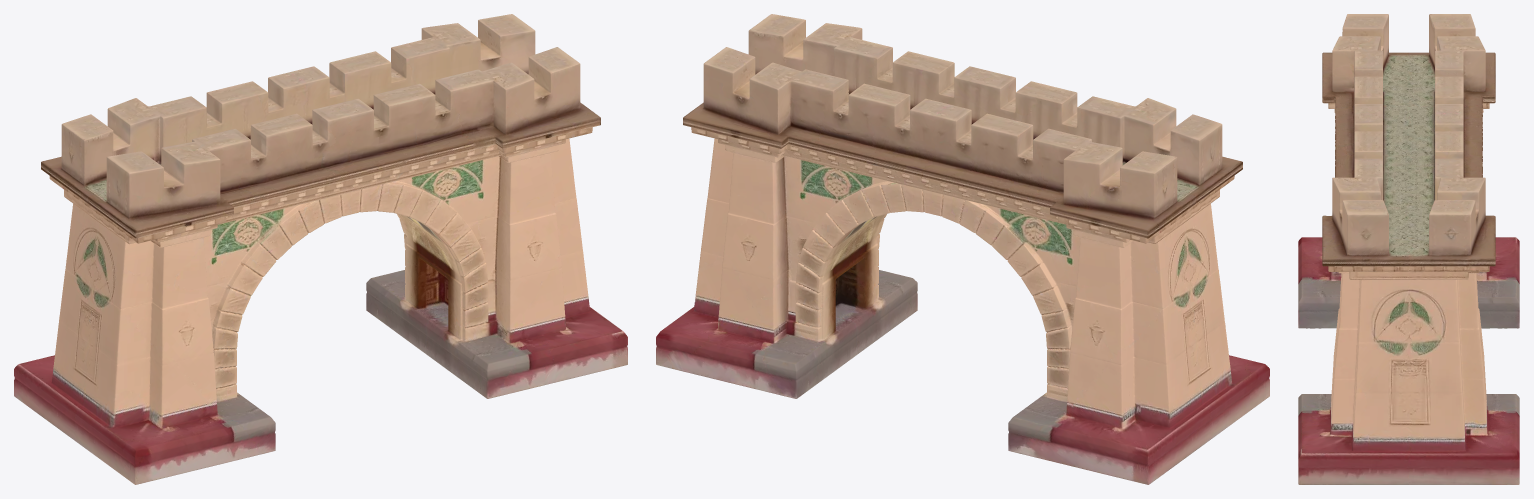
File: Meshy_AI_A_stone_bridge_A_lon_0808145825_texture.glb
3 renders of one model, left to right at view 1: azimuth 30°, elevation 25°; view 2: azimuth 150°, elevation 25°; view 3: azimuth 270°, elevation 25°, orthographic. The views are drawn at different scales.
Visible parts, largest first — view 1: mesh_node; view 2: mesh_node; view 3: mesh_node.
Part boxes in pixels (<box>): mesh_node: <box>14,14,627,484</box>; mesh_node: <box>656,14,1269,484</box>; mesh_node: <box>1298,14,1519,484</box>.
Bounding box in the file's own units: 1.9 × 1.06 × 0.8108.
Materials: 1 (1 with a texture image).
